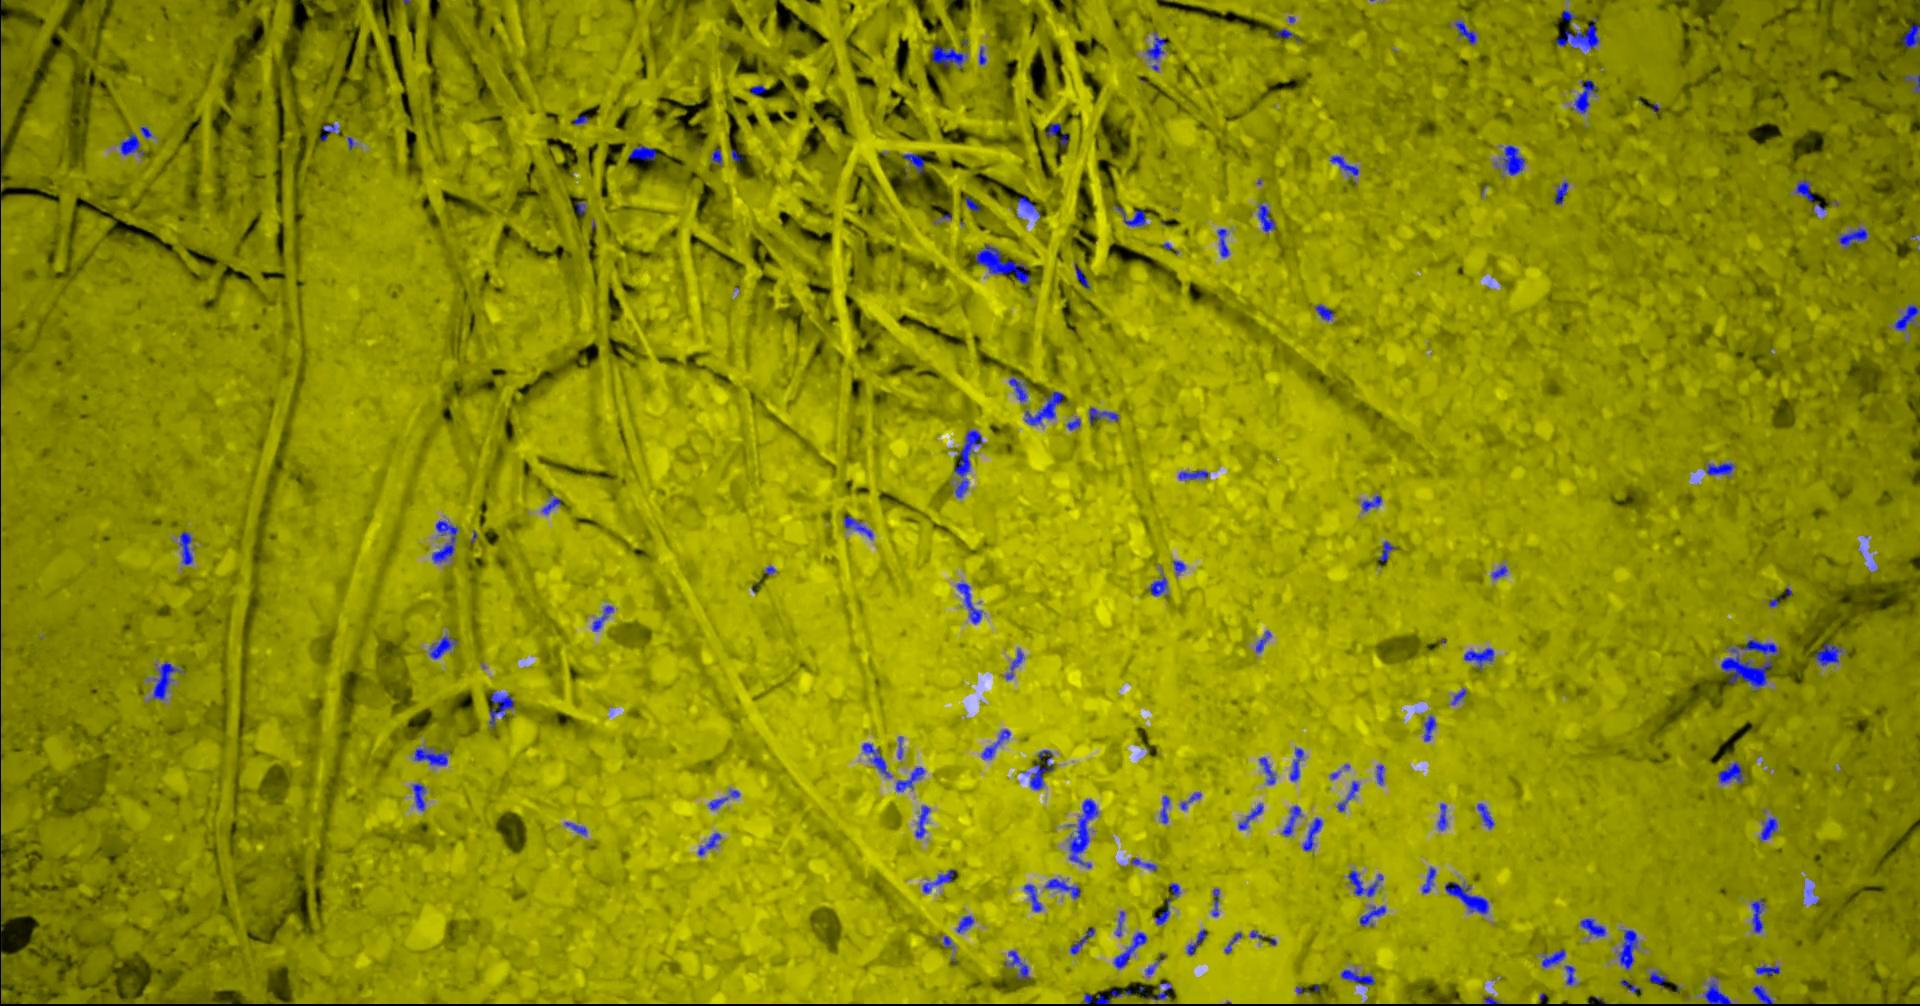ant: (974, 244, 1029, 285), (1067, 799, 1098, 868), (952, 429, 982, 497), (1556, 17, 1599, 50), (1444, 882, 1488, 913), (1023, 391, 1063, 426), (1021, 749, 1053, 789), (1112, 931, 1145, 968), (152, 662, 184, 699), (430, 520, 457, 561), (861, 742, 891, 777), (956, 582, 982, 622), (488, 690, 514, 727), (930, 44, 968, 69), (1571, 79, 1597, 113), (1347, 870, 1382, 895), (982, 729, 1010, 758), (1703, 977, 1731, 1005), (1003, 950, 1030, 979), (1618, 929, 1637, 969), (922, 869, 955, 892), (895, 766, 924, 791), (1044, 878, 1079, 898), (1893, 304, 1919, 332), (843, 514, 872, 539), (1463, 647, 1493, 669), (1114, 205, 1145, 226), (1237, 803, 1262, 829), (1069, 927, 1095, 954), (1813, 641, 1841, 666), (1502, 145, 1524, 175), (1336, 780, 1357, 810), (413, 747, 450, 765), (1302, 817, 1321, 850), (429, 635, 456, 658), (1330, 155, 1357, 177), (1145, 30, 1166, 60), (119, 131, 143, 155), (1837, 227, 1868, 246), (1004, 649, 1023, 680), (1281, 805, 1300, 836), (592, 605, 613, 631), (1717, 761, 1743, 782), (1359, 904, 1385, 926), (1186, 929, 1208, 955), (697, 832, 721, 855), (1340, 969, 1374, 984), (1088, 406, 1117, 424), (1023, 884, 1043, 911), (178, 531, 193, 564), (914, 805, 930, 838), (1750, 898, 1764, 934), (1017, 196, 1040, 217), (627, 144, 657, 160), (1258, 202, 1275, 231), (1578, 918, 1605, 936), (1455, 20, 1476, 43), (902, 152, 924, 173), (1900, 23, 1919, 47), (1008, 377, 1027, 401), (1476, 803, 1493, 828), (1145, 982, 1171, 1000), (1289, 748, 1303, 780), (1258, 757, 1275, 784), (1148, 572, 1167, 594), (1542, 948, 1564, 967), (1759, 815, 1777, 840), (541, 493, 561, 513), (1752, 984, 1773, 1005), (1794, 179, 1813, 201), (1154, 897, 1170, 923), (411, 782, 425, 810), (1074, 263, 1090, 288), (1378, 541, 1396, 561), (1421, 868, 1435, 893), (1082, 992, 1109, 1005), (1553, 180, 1567, 205), (1224, 932, 1241, 953), (1217, 227, 1228, 257), (1705, 462, 1735, 474), (1255, 630, 1270, 652), (1275, 28, 1300, 41), (1130, 857, 1156, 870), (955, 915, 973, 932), (1314, 304, 1333, 320), (1903, 72, 1919, 93), (1361, 495, 1382, 511), (564, 821, 585, 835), (1423, 715, 1435, 741), (1754, 964, 1779, 976), (1159, 795, 1170, 823), (1648, 970, 1665, 987), (1177, 470, 1208, 479), (1437, 803, 1448, 829), (1620, 979, 1641, 992), (320, 123, 335, 140), (709, 796, 728, 809), (964, 196, 979, 211), (1450, 688, 1465, 704), (1115, 911, 1124, 936), (1211, 888, 1219, 916), (1491, 565, 1507, 578), (1172, 560, 1185, 575), (1564, 965, 1575, 984), (1045, 123, 1062, 135), (711, 147, 721, 165), (1065, 418, 1079, 429), (749, 85, 766, 94), (1483, 996, 1500, 1005), (1168, 883, 1180, 895), (575, 199, 585, 213), (1377, 763, 1383, 784)
